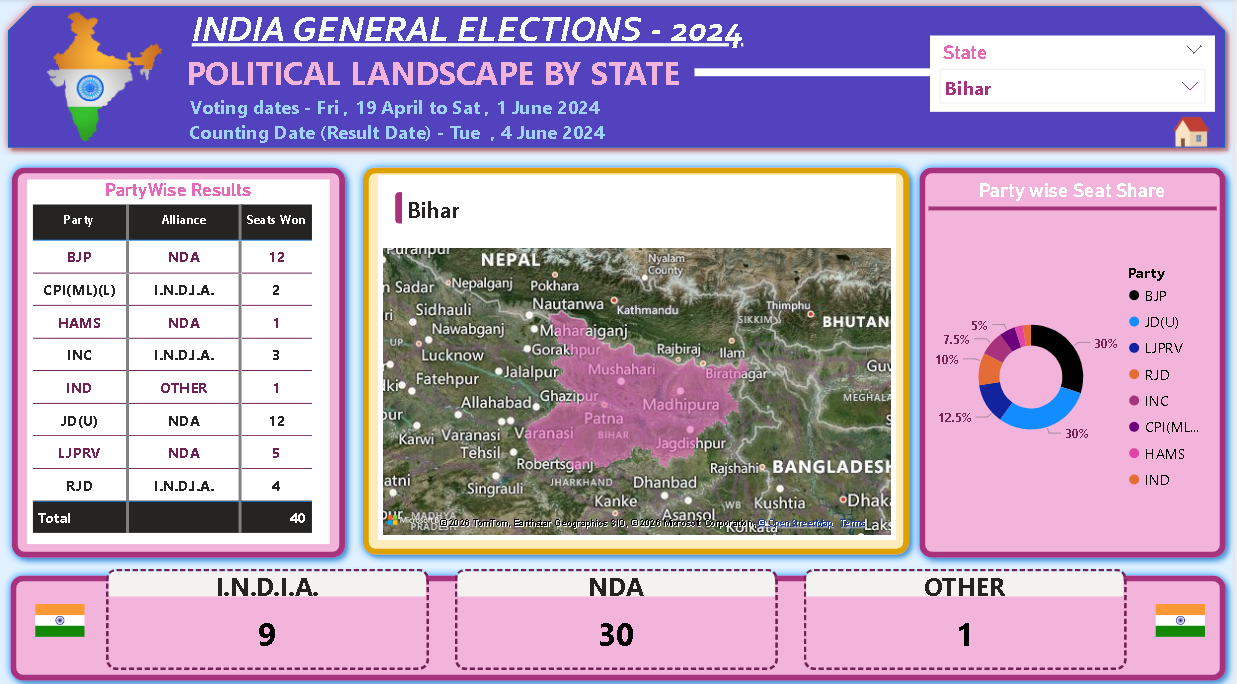

The page's visual inventory and layout, read from the dashboard file:
{"tool":"powerbi","page":{"name":"Political Landscape by state","canvas":[1250,700],"ordinal":3},"visuals":[{"type":"shape","box":[0,0,1249.1,159.6],"z":0},{"type":"textbox","box":[21.3,3,1206.5,159.6],"z":1000},{"type":"shape","box":[1.5,575.9,1249.1,124.6],"z":2000},{"type":"image","box":[21.3,13.7,165.6,132.2],"z":3000},{"type":"cardVisual","fields":{"Data":["CountNonNull(constituencywise_results.Constituency Name)"],"Rows":["constituencywise_results.Party Alliance(results)"]},"box":[82.1,572.9,1088,114],"z":4000},{"type":"slicer","fields":{"Values":["states.State"]},"box":[942.1,38,288.7,77.5],"z":5000},{"type":"shape","box":[703.6,0,238.6,150.4],"z":6000},{"type":"image","box":[996.8,369.3,51.7,33.4],"z":7000},{"type":"image","box":[1144.2,369.3,51.7,33.4],"z":8000},{"type":"shape","box":[358.6,162.6,571.4,410.3],"z":9000},{"type":"filledMap","fields":{"Category":["states.State"]},"box":[382.9,179.3,524.3,369.3],"z":10000},{"type":"shape","box":[3,162.6,355.6,413.3],"z":11000},{"type":"tableEx","title":"PartyWise Results","fields":{"Values":["constituencywise_results.Party Short Name","constituencywise_results.Party Alliance(results)","CountNonNull(constituencywise_results.Constituency Name)"]},"box":[27.4,183.9,307,369.3],"z":12000},{"type":"shape","box":[922.4,162.6,328.2,413.3],"z":13000},{"type":"donutChart","title":"Party wise Seat Share","fields":{"Category":["constituencywise_results.Party Short Name"],"Y":["CountNonNull(constituencywise_results.Constituency Name)"]},"box":[940.6,183.9,291.8,369.3],"z":14000},{"type":"image","box":[35,613.9,51.7,33.4],"z":15000},{"type":"image","box":[1170.1,613.9,51.7,33.4],"z":16000},{"type":"cardVisual","fields":{"Data":["Min(states.State)"]},"box":[382.9,179.3,524.3,66.9],"z":17000},{"type":"image","box":[1171.6,115.5,69.9,41],"z":18000}]}

Visuals, with their boxes in screenshot pixels (x1, y1, x2, y2), scaled from the page's 1250x700 canvas onto the 1237x684 screenshot:
shape: <bbox>0, 0, 1236, 156</bbox>
textbox: <bbox>21, 3, 1215, 159</bbox>
shape: <bbox>1, 563, 1236, 683</bbox>
image: <bbox>21, 13, 185, 143</bbox>
cardVisual - CountNonNull(constituencywise_results.Constituency Name) x constituencywise_results.Party Alliance(results): <bbox>81, 560, 1158, 671</bbox>
slicer - states.State: <bbox>932, 37, 1218, 113</bbox>
shape: <bbox>696, 0, 932, 147</bbox>
image: <bbox>986, 361, 1038, 393</bbox>
image: <bbox>1132, 361, 1183, 393</bbox>
shape: <bbox>355, 159, 920, 560</bbox>
filledMap - states.State: <bbox>379, 175, 898, 536</bbox>
shape: <bbox>3, 159, 355, 563</bbox>
"PartyWise Results" tableEx: <bbox>27, 180, 331, 541</bbox>
shape: <bbox>913, 159, 1236, 563</bbox>
"Party wise Seat Share" donutChart: <bbox>931, 180, 1220, 541</bbox>
image: <bbox>35, 600, 86, 633</bbox>
image: <bbox>1158, 600, 1209, 633</bbox>
cardVisual - Min(states.State): <bbox>379, 175, 898, 241</bbox>
image: <bbox>1159, 113, 1229, 153</bbox>
